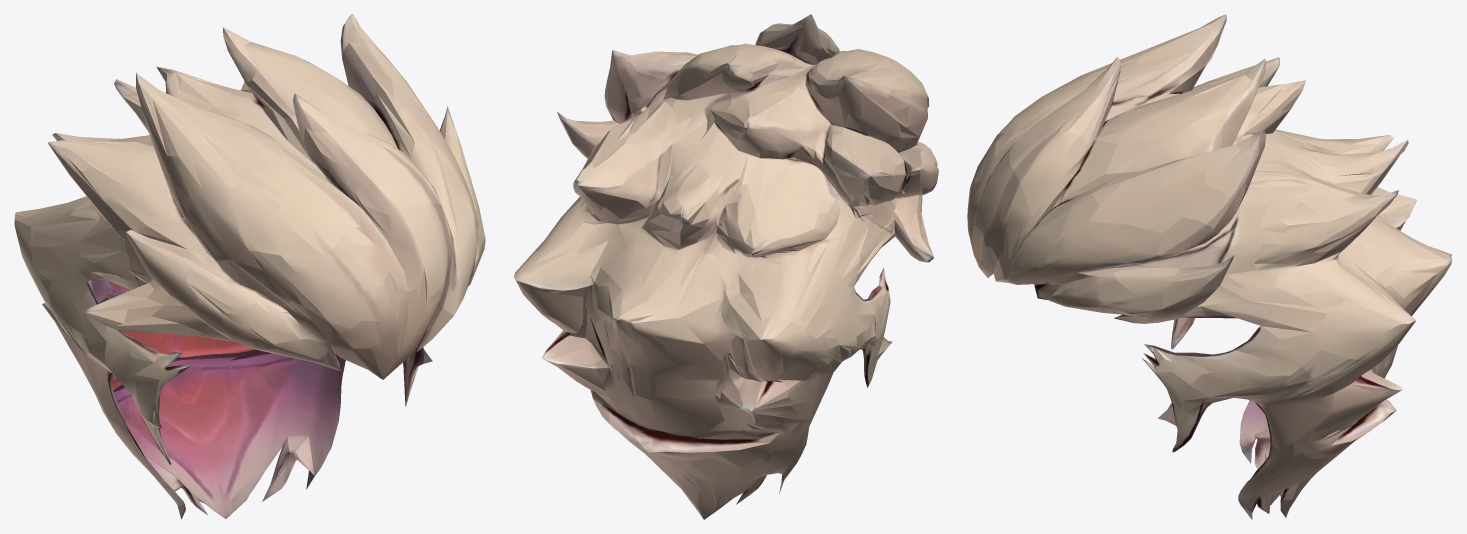
File: fennal_m-herisses.glb
3 renders of one model, left to right at view 1: azimuth 30°, elevation 25°; view 2: azimuth 150°, elevation 25°; view 3: azimuth 270°, elevation 25°, orthographic. The views are drawn at different scales.
Parts seen in each view (by area): view 1: geometry_0; view 2: geometry_0; view 3: geometry_0.
Boxes of the visible parts, x1=… form: geometry_0: x1=14, y1=14, x2=485, y2=519; geometry_0: x1=514, y1=14, x2=938, y2=519; geometry_0: x1=967, y1=14, x2=1452, y2=519.
Size of the model in its own units: 1.55 by 1.9 by 1.85.
1 material, 1 textured.
